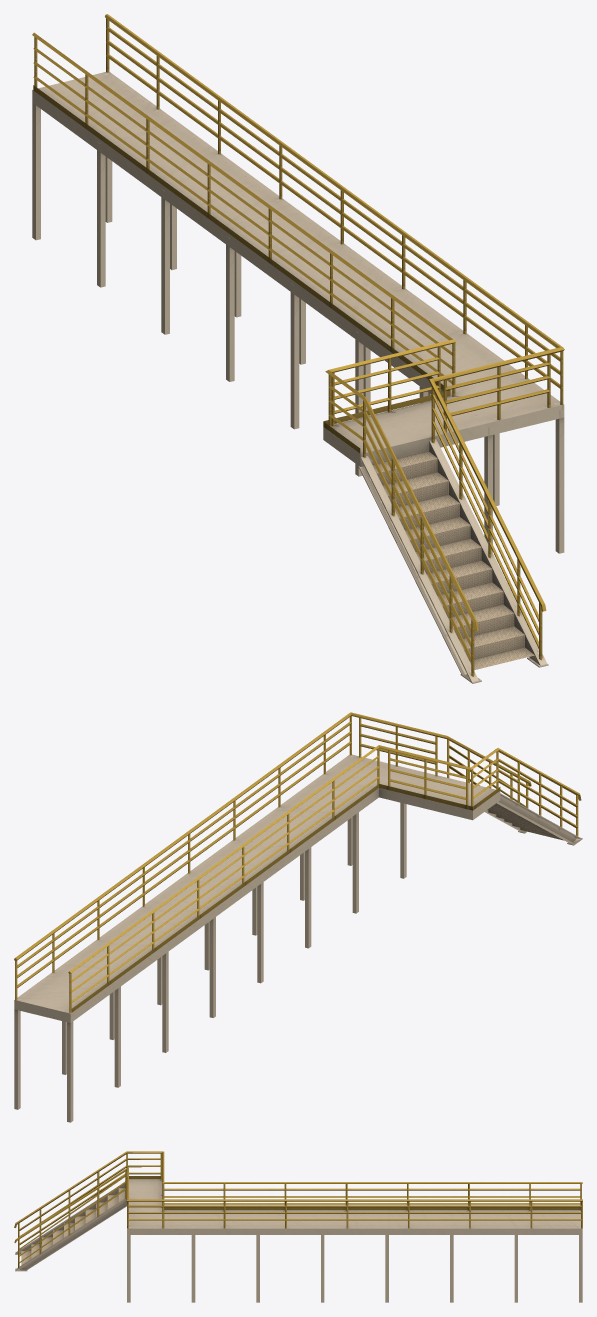
Rendered from louti.FBX.
The picture shows the model from 3 angles, top to bottom: view 1: azimuth 30°, elevation 25°; view 2: azimuth 150°, elevation 25°; view 3: azimuth 270°, elevation 25°; orthographic projection. The views are drawn at different scales.
Parts seen in each view (by area): view 1: YF_Model_louti; view 2: YF_Model_louti; view 3: YF_Model_louti.
Boxes of the visible parts, left/top/right/bottom form: YF_Model_louti: left=32, top=14, right=564, bottom=683; YF_Model_louti: left=14, top=712, right=582, bottom=1122; YF_Model_louti: left=14, top=1151, right=582, bottom=1302.
Bounding box in the file's own units: 253 × 243 × 1221.
Materials: 2 (2 with a texture image).
